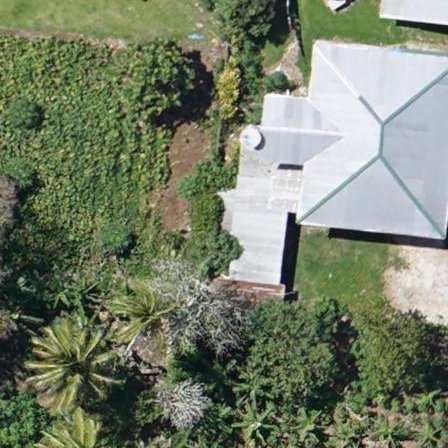palm_tree: (31, 319, 114, 408)
